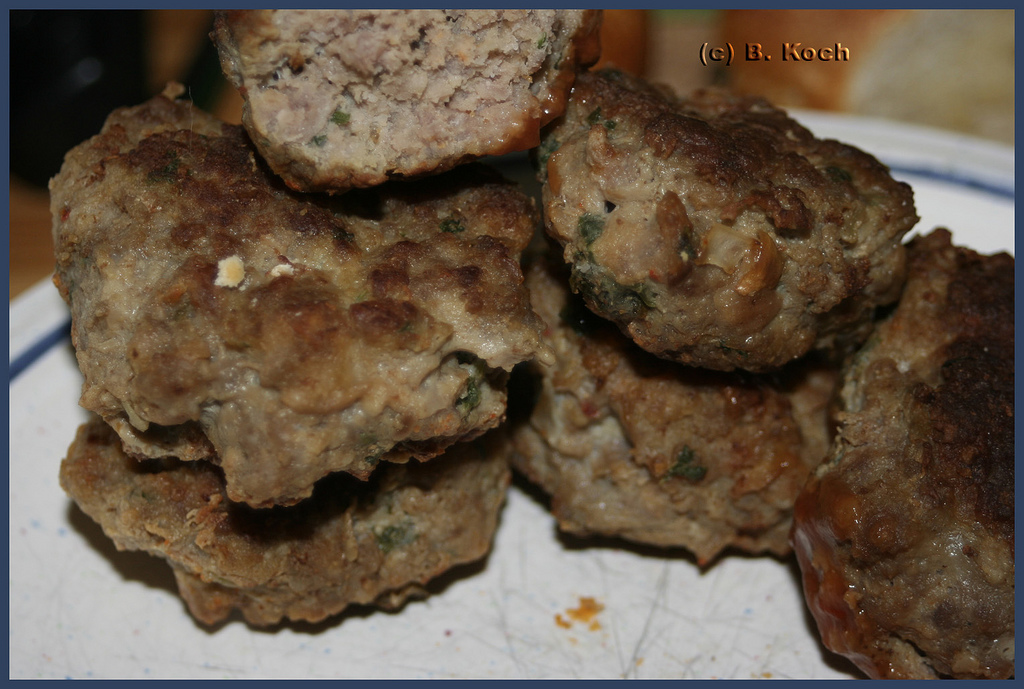meatballs: (60, 121, 534, 459), (540, 74, 896, 354), (258, 23, 583, 162)
